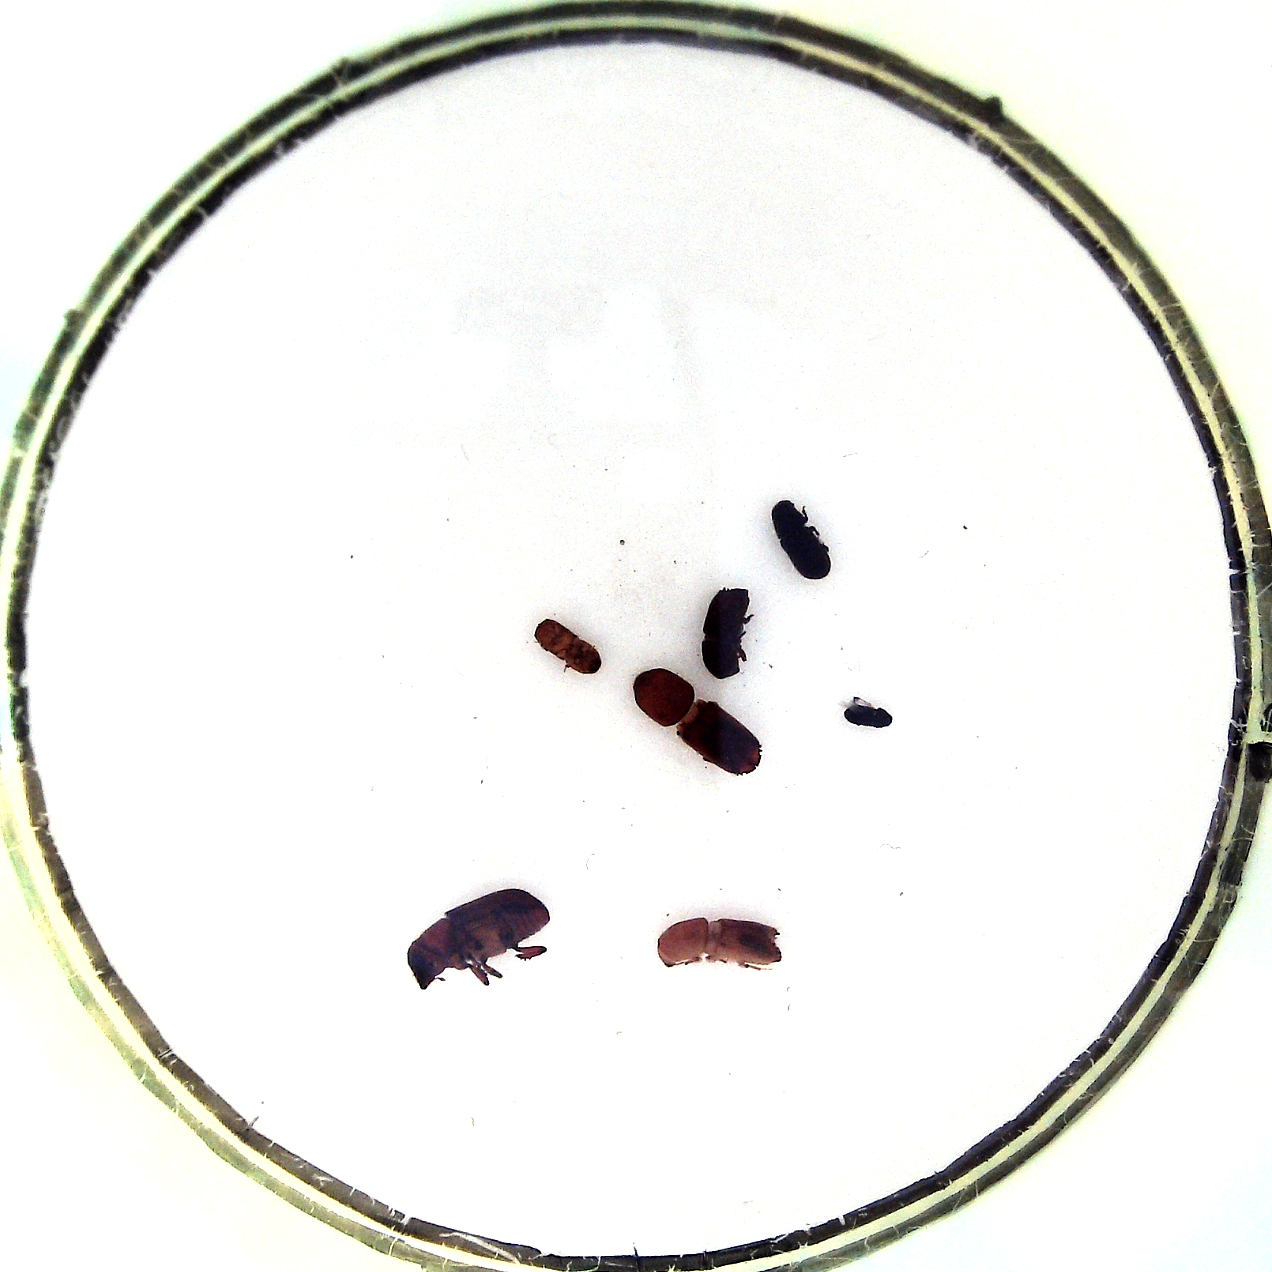Boerner: (631, 667, 762, 777), (653, 913, 789, 970)
Leconte: (400, 885, 553, 995)
Linnaeus: (698, 582, 754, 680)
acuminatus: (533, 616, 608, 679)
armandi: (766, 495, 838, 582)
coleoptera: (839, 693, 897, 732)
